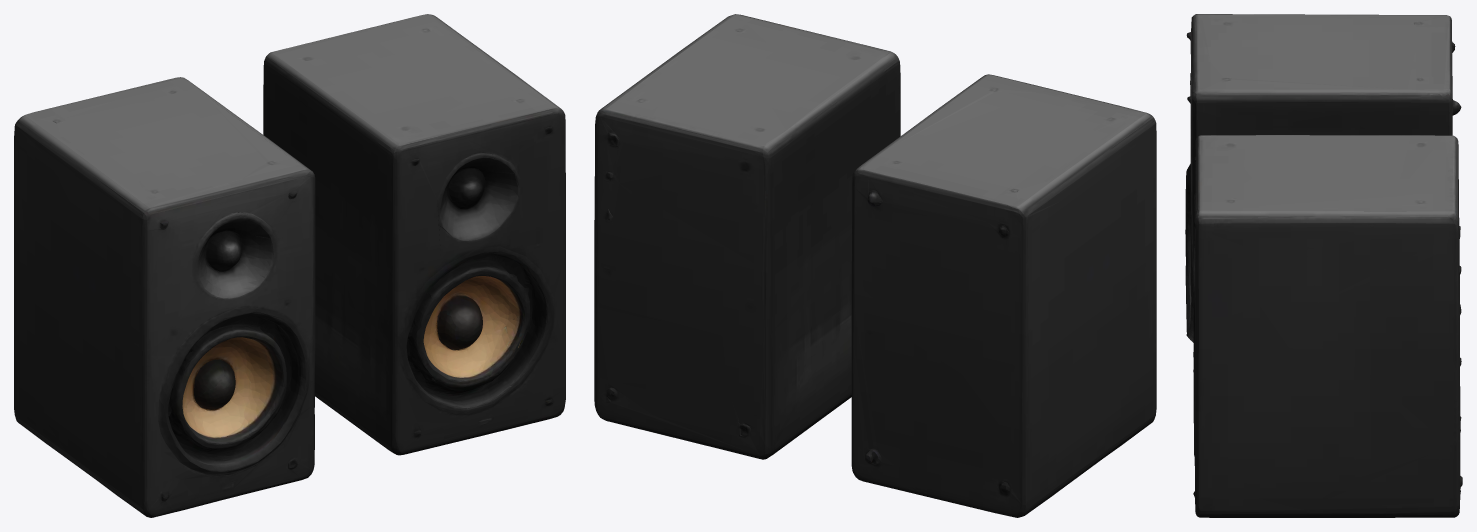
The picture shows the model from 3 angles, left to right: view 1: azimuth 30°, elevation 25°; view 2: azimuth 150°, elevation 25°; view 3: azimuth 270°, elevation 25°; orthographic projection.
Parts seen in each view (by area): view 1: geometry_0; view 2: geometry_0; view 3: geometry_0.
Boxes of the visible parts, box(x1,y1,x2,y2) form: geometry_0: box(14, 14, 565, 517); geometry_0: box(594, 14, 1156, 517); geometry_0: box(1185, 14, 1462, 517).
Size of the model in its own units: 0.9991 by 0.6957 by 0.5682.
Materials: 1 (1 with a texture image).
